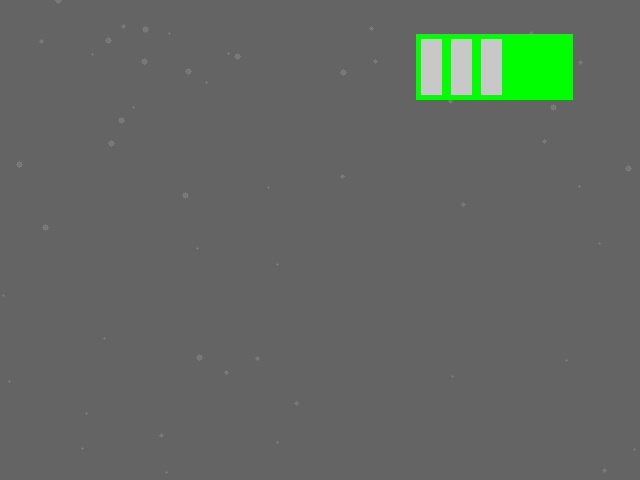bus: (416, 34, 572, 99)
